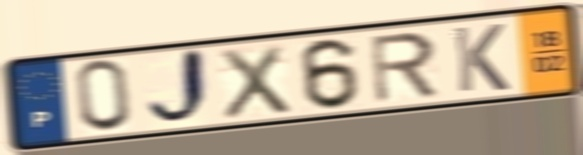0: (72, 57, 134, 137)
6: (297, 35, 361, 112)
J: (144, 45, 215, 132)
K: (449, 21, 513, 95)
R: (367, 29, 442, 106)
X: (217, 42, 295, 123)
